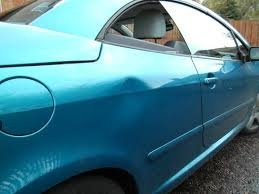Dent: (101, 77, 153, 127)
